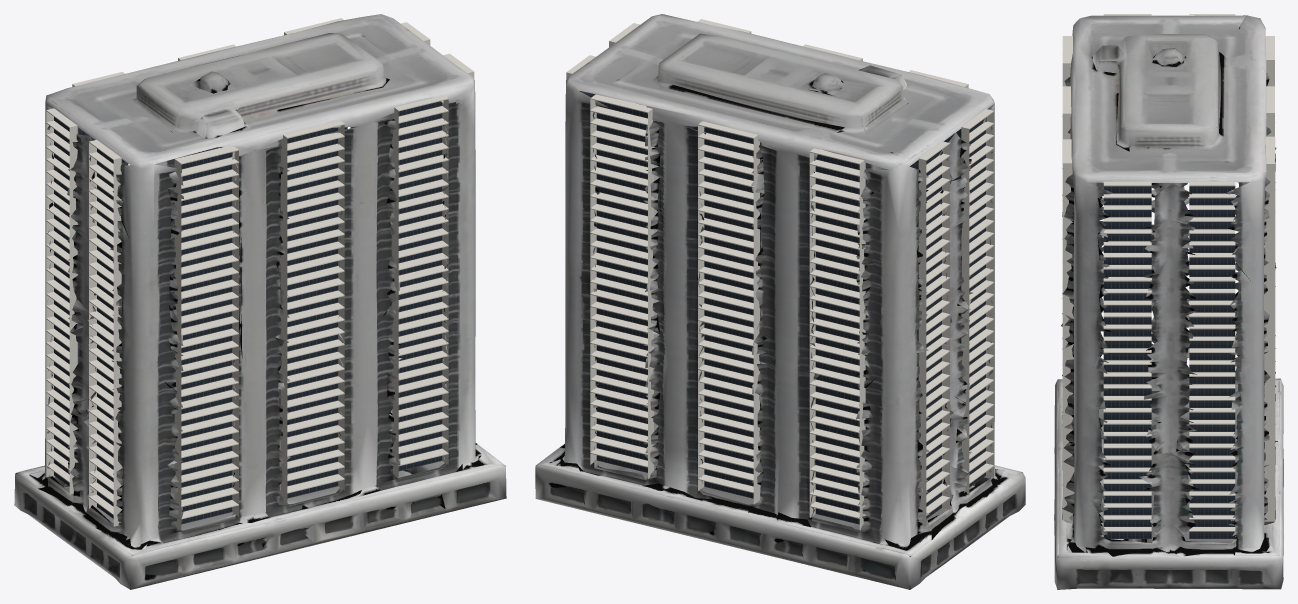
The model's file is lsd_644_n_hotel.glb.
3 renders of one model, left to right at view 1: azimuth 30°, elevation 25°; view 2: azimuth 150°, elevation 25°; view 3: azimuth 270°, elevation 25°, orthographic. The views are drawn at different scales.
Visible parts, largest first — view 1: lsd_644_n_hotel; view 2: lsd_644_n_hotel; view 3: lsd_644_n_hotel.
Boxes of the visible parts, bbox=[...] form: lsd_644_n_hotel: bbox=[14, 14, 506, 589]; lsd_644_n_hotel: bbox=[535, 14, 1025, 589]; lsd_644_n_hotel: bbox=[1054, 14, 1283, 589].
Bounding box in the file's own units: 82 × 90.8 × 44.
3 materials, 3 textured.
